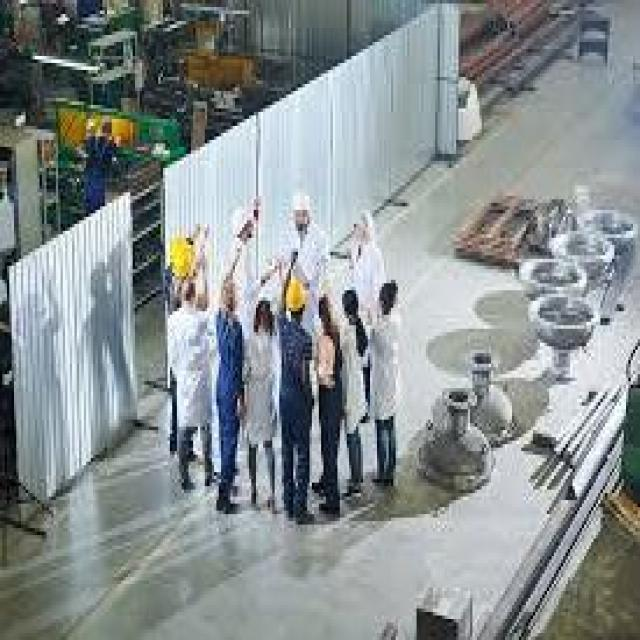safety_helmet: (165, 233, 198, 283), (285, 276, 310, 315)
